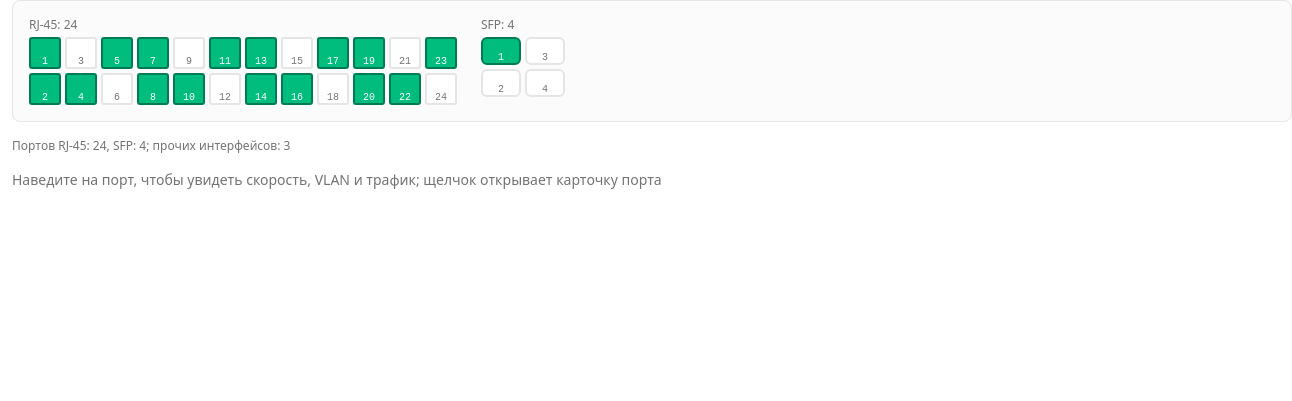
Test: Физика › hover shows speed and VLAN, a click opens the port card
Hover over the button named "Порт gi1/0/1:" at (45, 53), box [29,37,61,69]
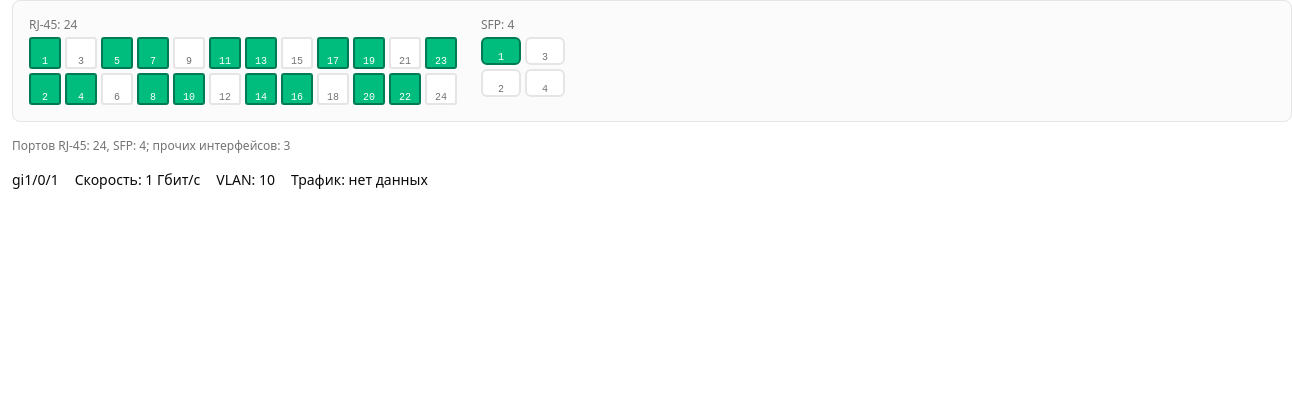
Check: the element with test id "port-hint" shows "Скорость", box [75,170,138,189]
Check: the element with test id "port-hint" shows "Гбит/с", box [145,170,200,189]
Hover over the button named "Порт gi1/0/2:" at (45, 89), box [29,73,61,105]
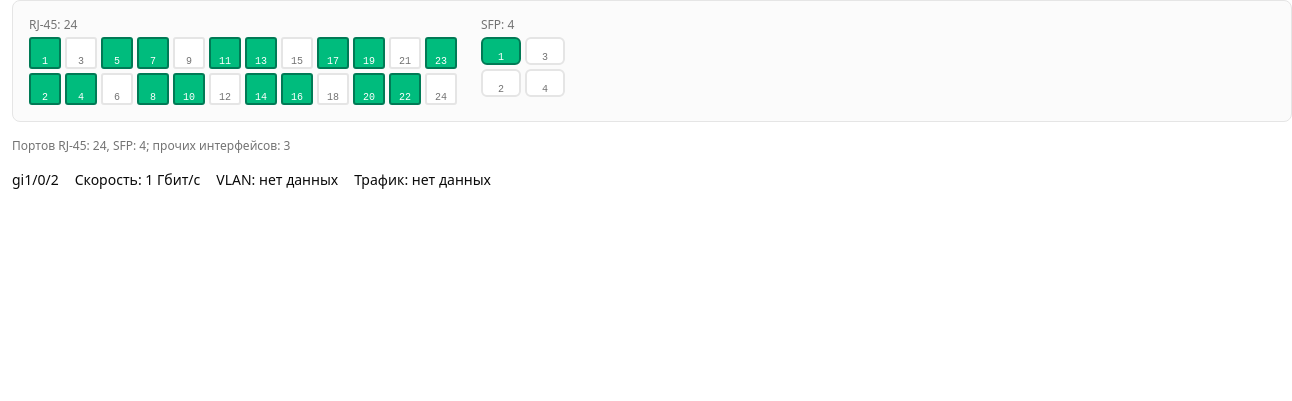
Click the button named "Порт gi1/0/1:" at (45, 53), box [29,37,61,69]
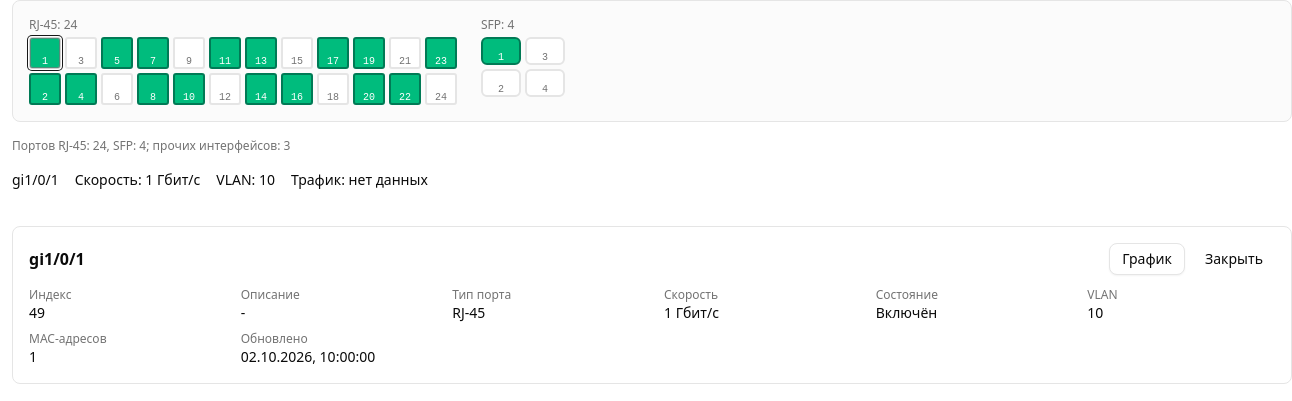
Check: the element named "Карточка порта gi1/0/1" is shown, box [12,226,1291,384]
